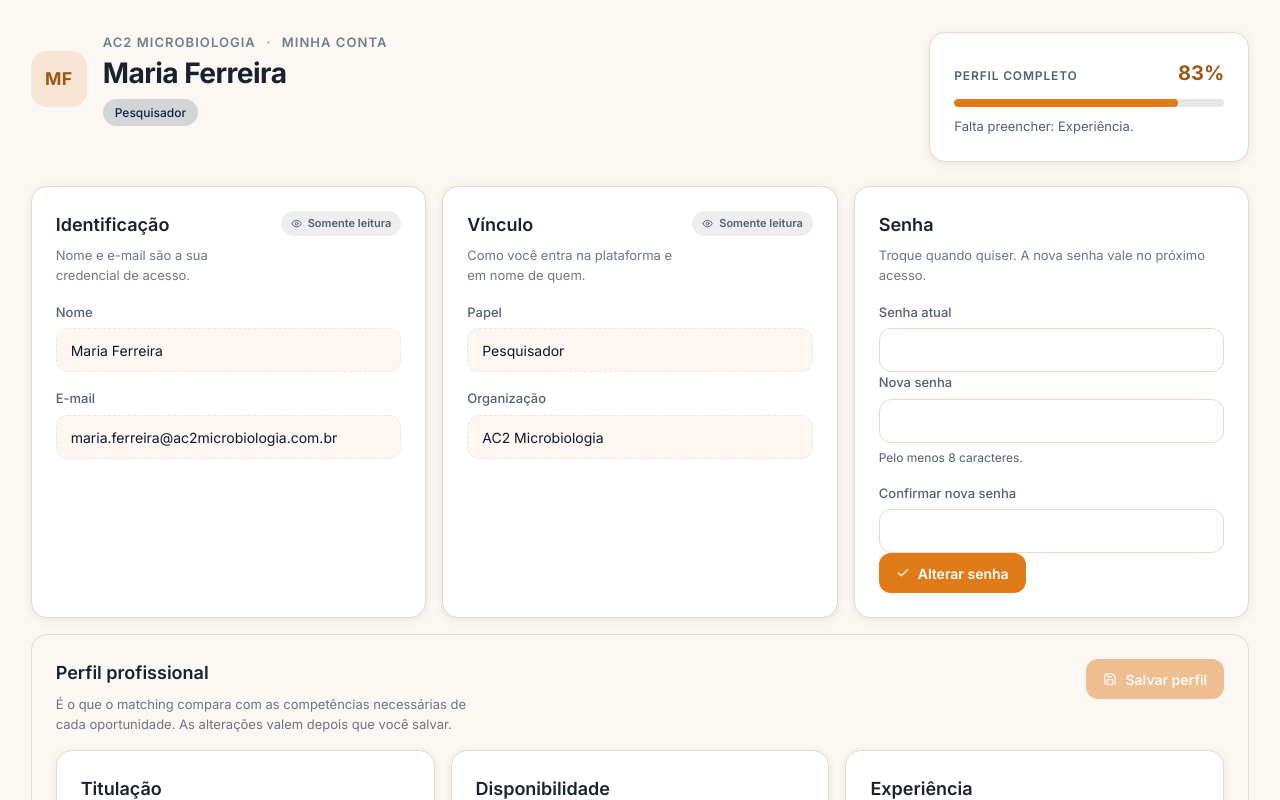
Test: PerfilPage › troca a senha pela API e limpa os campos
Type "senha-antiga" into the password field labelled "Senha atual" at (1052, 350), box [879, 328, 1224, 372]
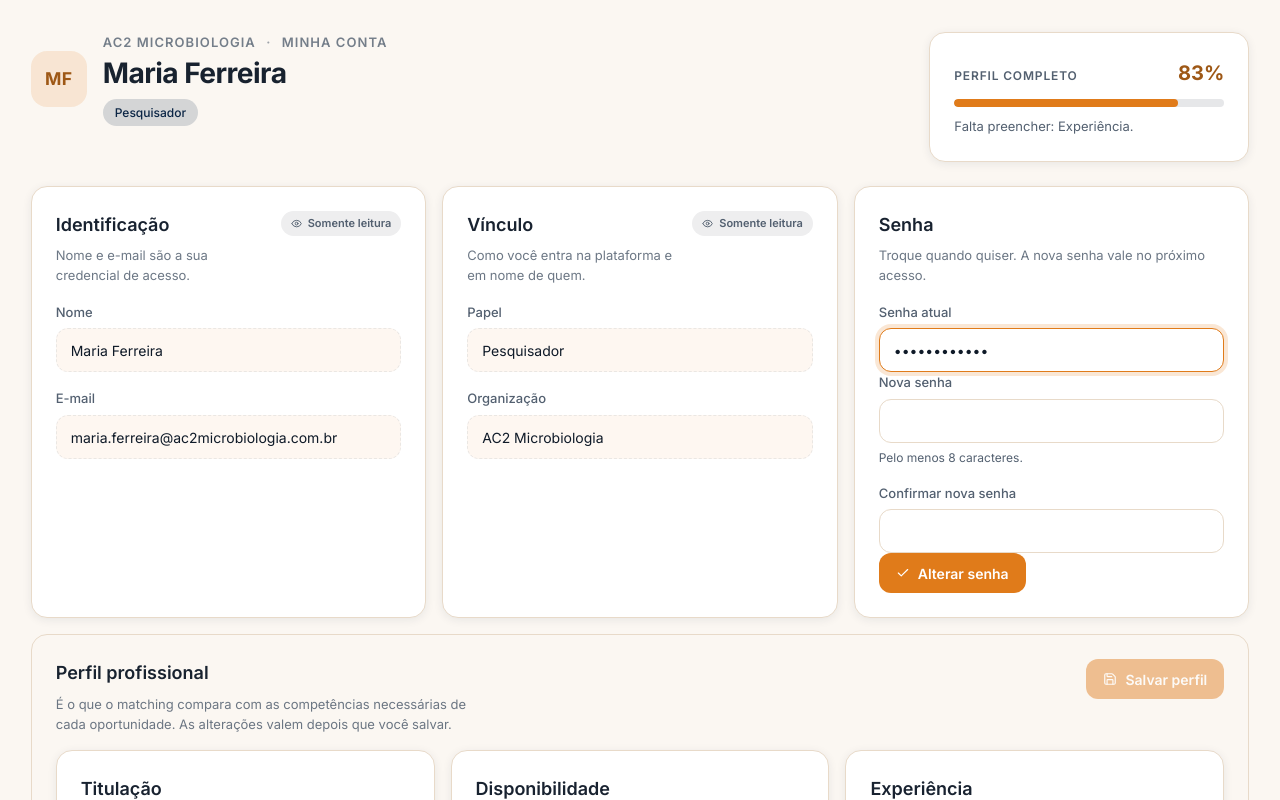
Type "senha-nova-123" into the password field labelled "Nova senha" at (1052, 421), box [879, 399, 1224, 443]
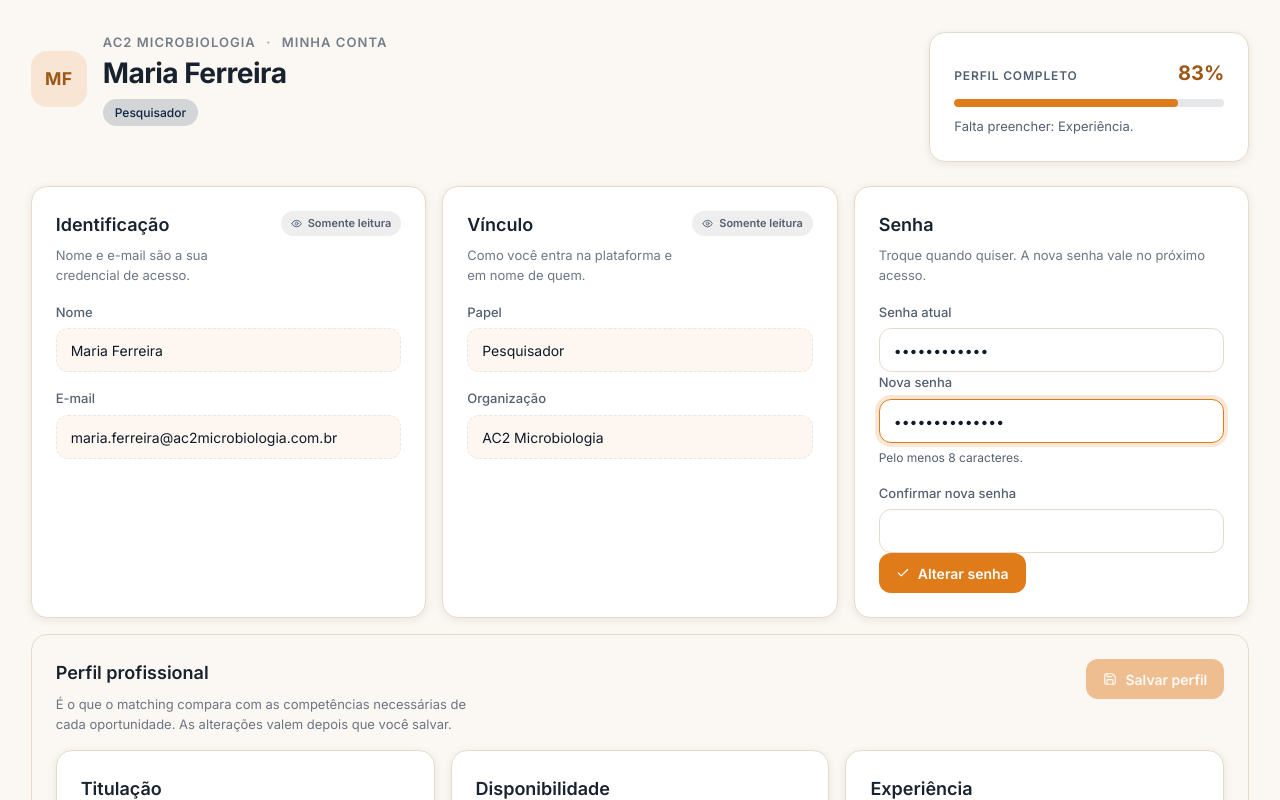
Type "senha-nova-123" into the password field labelled "Confirmar nova senha" at (1052, 531), box [879, 509, 1224, 553]
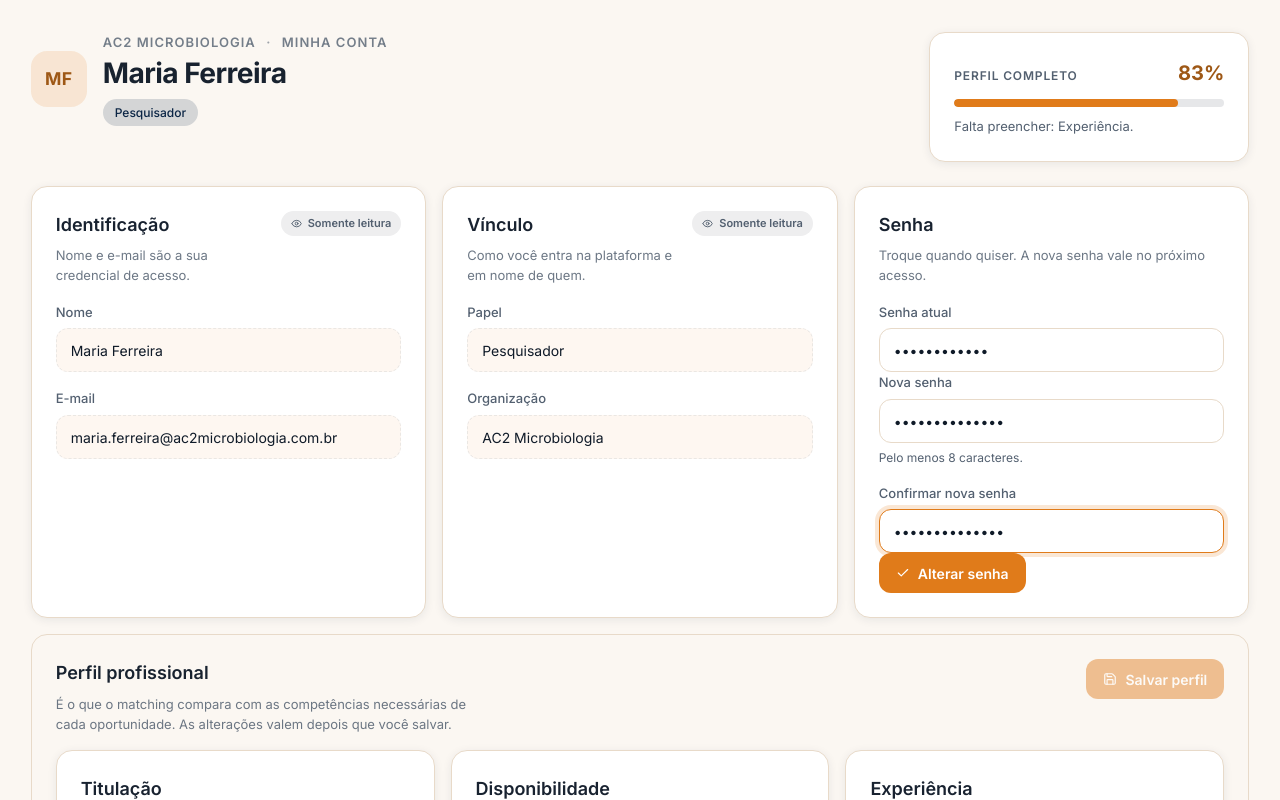
Click the button "Alterar senha" at (952, 573), box [879, 553, 1026, 593]
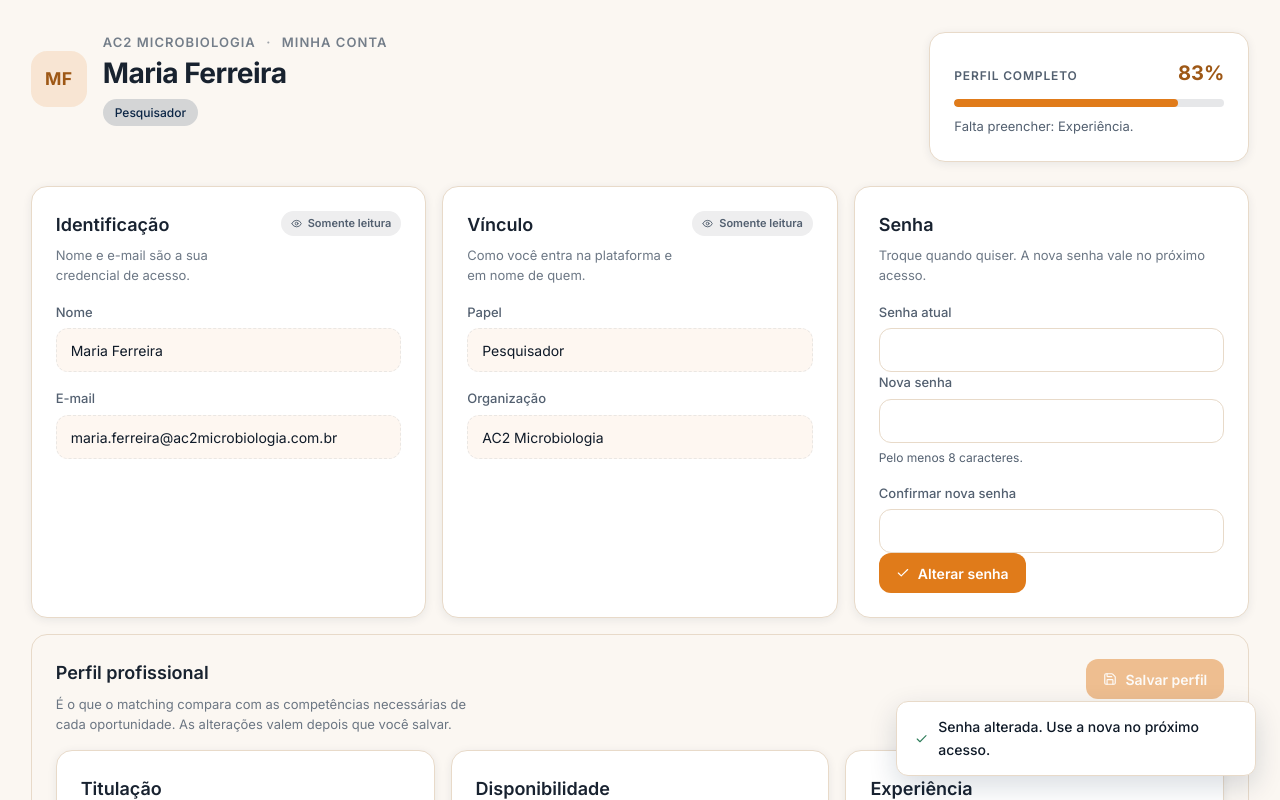
Now the text "Senha alterada. Use a nova no próximo acesso." is shown, box [896, 701, 1256, 776]
Now the password field labelled "Senha atual" is empty, box [879, 328, 1224, 372]
